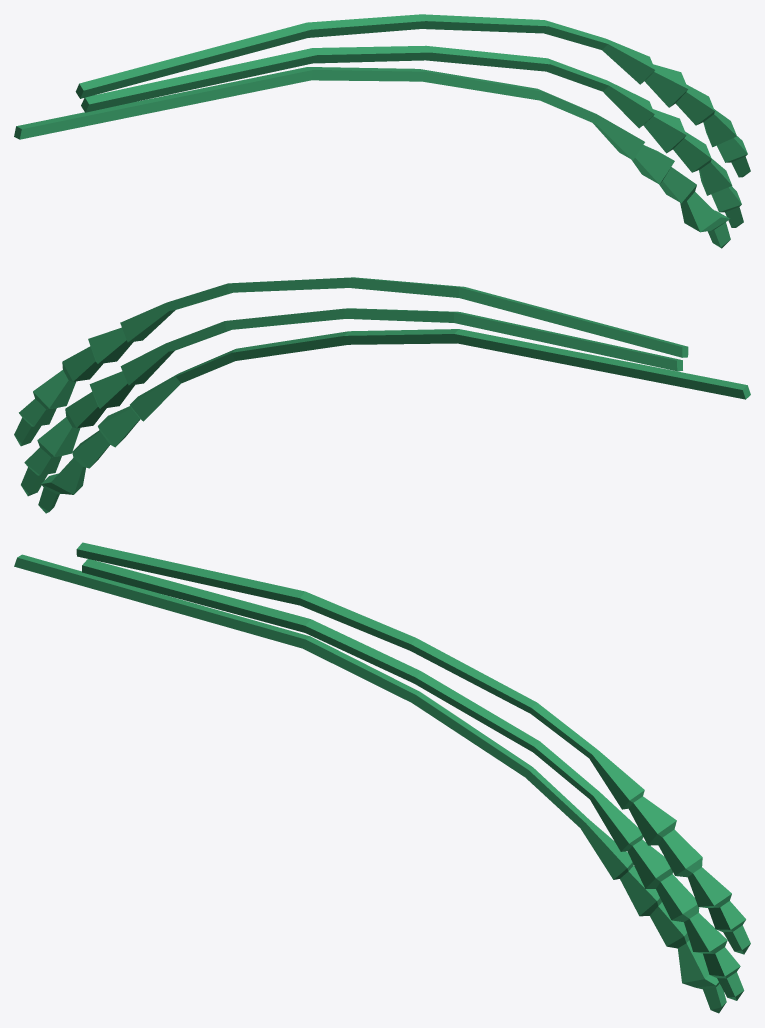
File: rice.glb
3 views of the same model, one above another, from view 1: azimuth 30°, elevation 25°; view 2: azimuth 150°, elevation 25°; view 3: azimuth 330°, elevation 25° (orthographic).
Visible parts, largest first — view 1: Rice_Crop_Plane024; view 2: Rice_Crop_Plane024; view 3: Rice_Crop_Plane024.
Boxes of the visible parts, x1,y1,x2,y2 form: Rice_Crop_Plane024: (14,14,750,248); Rice_Crop_Plane024: (14,277,750,513); Rice_Crop_Plane024: (14,542,750,1013).
Size of the model in its own units: 1.45 by 0.6189 by 0.0731.
